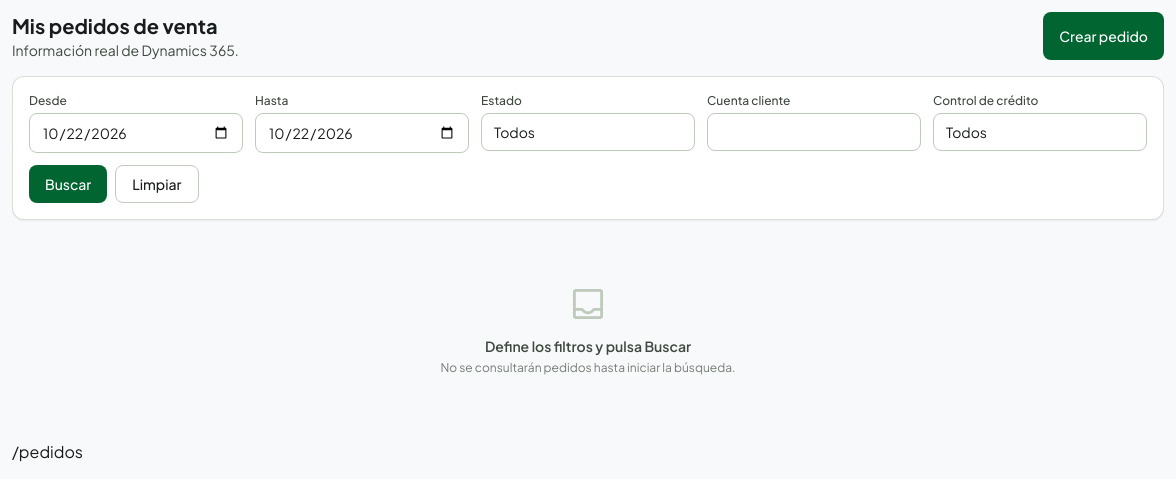
Test: OrdersPage filters, history and recovery › navigates to creation without submitting an order
Click the button "Crear pedido".
click(1104, 36)  # box [1043, 12, 1164, 60]
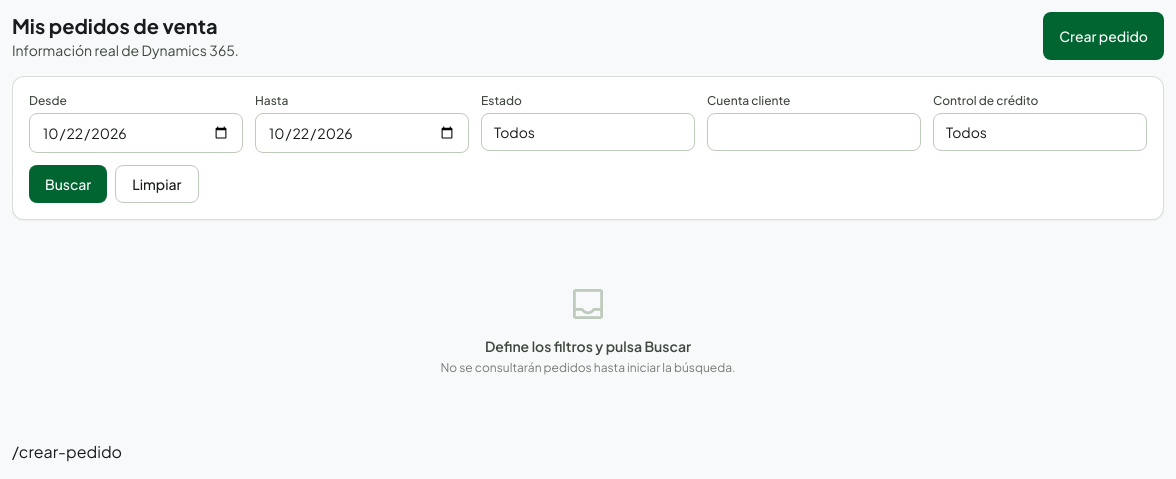
Now the text with test id "location" reads "/crear-pedido", box [12, 441, 122, 462]
